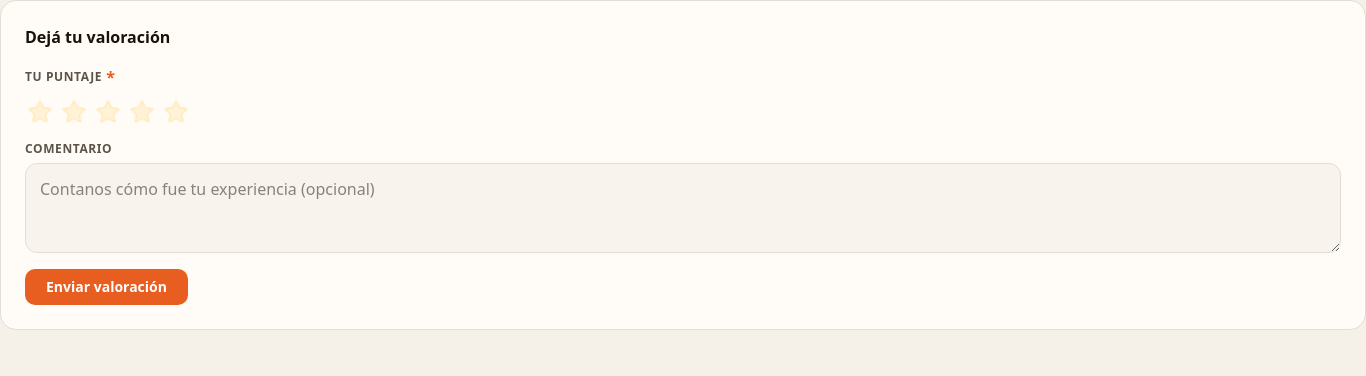
RatingForm › requires a score before submitting
Click the button "Enviar valoración".
click(106, 287)  # box [25,269,188,305]
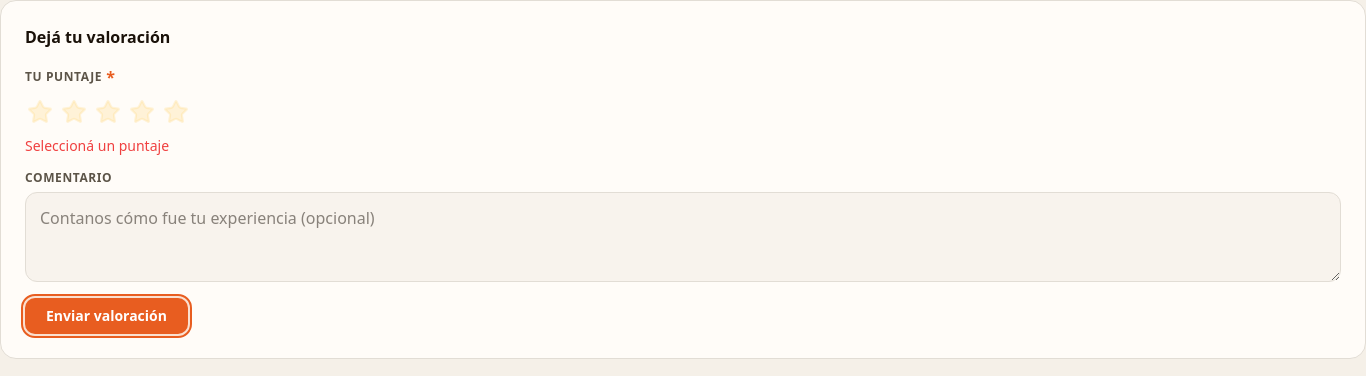
Expected: the text "Seleccioná un puntaje" is shown, [25,136,169,155]
